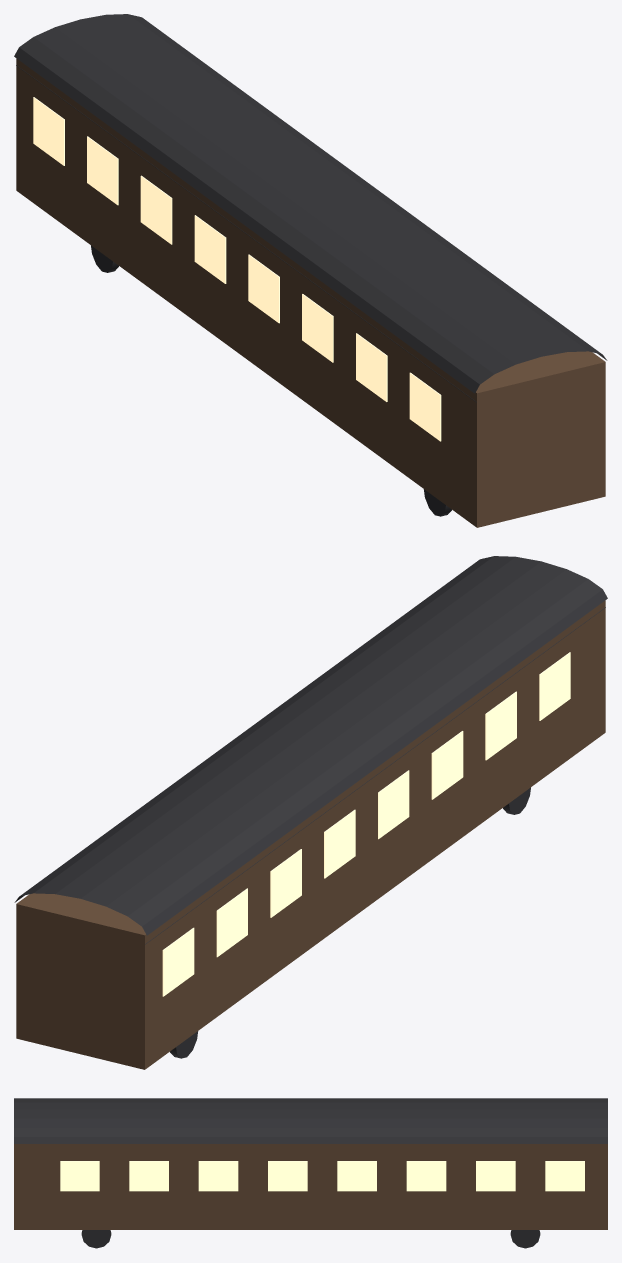
File: train.glb
3 renders of one model, top to bottom at view 1: azimuth 30°, elevation 25°; view 2: azimuth 150°, elevation 25°; view 3: azimuth 270°, elevation 25°, orthographic. The views are drawn at different scales.
Parts seen in each view (by area): view 1: train; view 2: train; view 3: train.
Boxes of the visible parts, bbox=[...] form: train: bbox=[14, 14, 607, 527]; train: bbox=[14, 556, 607, 1069]; train: bbox=[14, 1098, 607, 1248].
Size of the model in its own units: 3 by 4.2 by 18.
